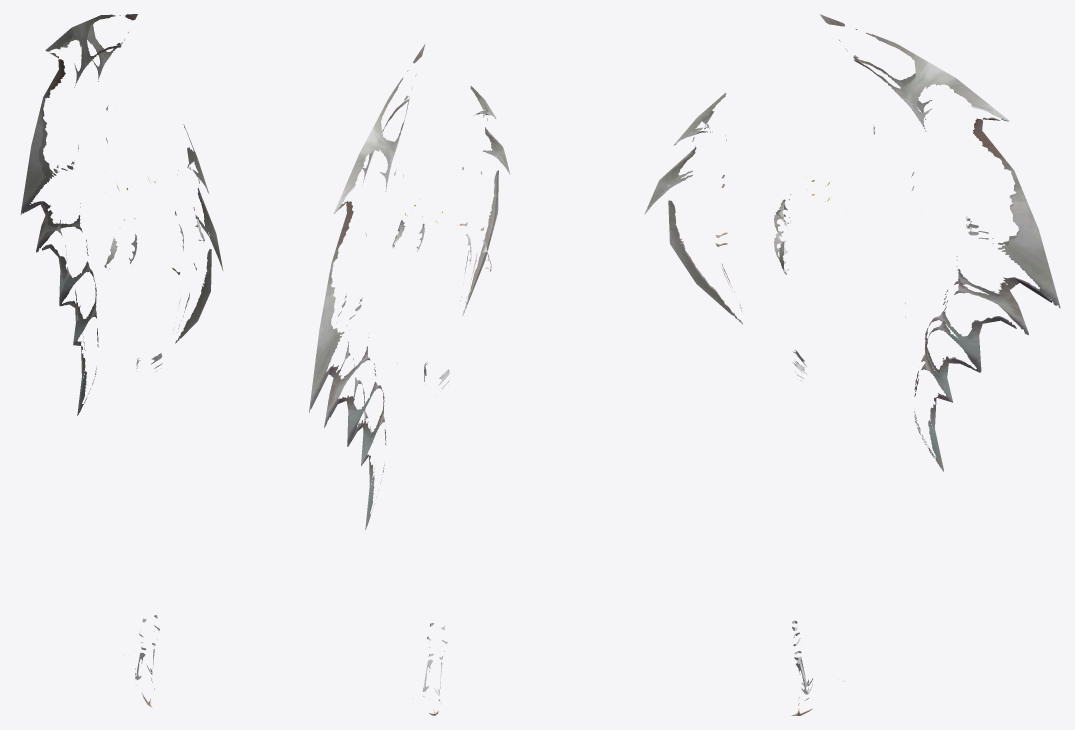
Rendered from 18psf_19903274.glb.
The picture shows the model from 3 angles, left to right: view 1: azimuth 30°, elevation 25°; view 2: azimuth 150°, elevation 25°; view 3: azimuth 270°, elevation 25°; orthographic projection. The views are drawn at different scales.
Size of the model in its own units: 0.5019 by 2.87 by 1.75.
Materials: 1 (1 with a texture image).
